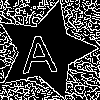A: (20, 26, 59, 74)
